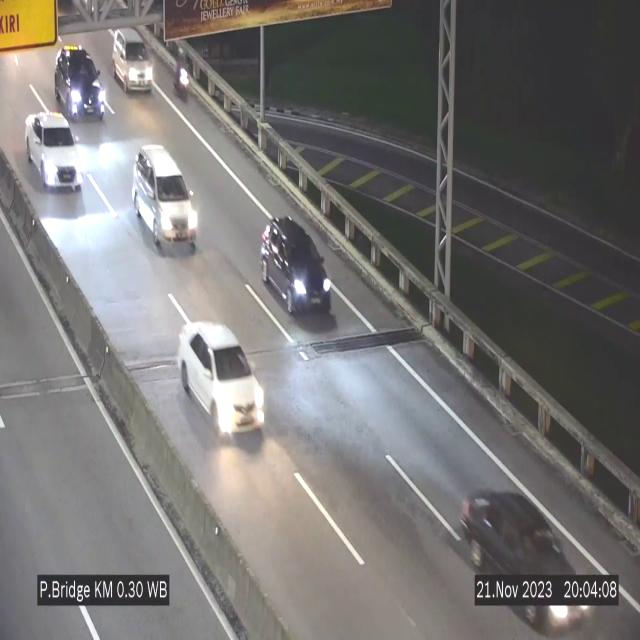Car: (464, 489, 588, 629), (178, 323, 266, 438), (259, 213, 337, 323), (132, 145, 199, 253), (52, 45, 112, 127), (26, 112, 81, 189), (112, 27, 153, 93)
Motorcycle: (170, 42, 190, 104)
